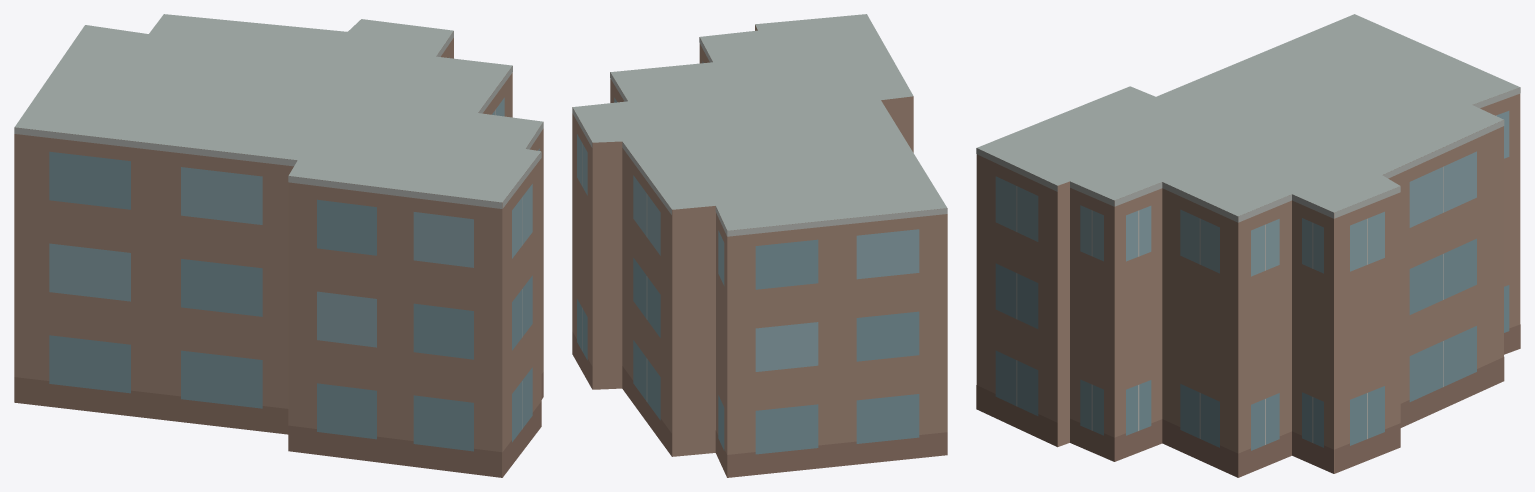
The model's file is survey-upis-32711663.glb.
The picture shows the model from 3 angles, left to right: view 1: azimuth 30°, elevation 25°; view 2: azimuth 150°, elevation 25°; view 3: azimuth 270°, elevation 25°; orthographic projection. The views are drawn at different scales.
Visible parts, largest first — view 1: survey-upis-32711663.tmp; view 2: survey-upis-32711663.tmp; view 3: survey-upis-32711663.tmp.
Boxes of the visible parts, x1,y1,x2,y2 form: survey-upis-32711663.tmp: [14, 14, 543, 477]; survey-upis-32711663.tmp: [572, 14, 947, 477]; survey-upis-32711663.tmp: [976, 14, 1520, 477].
Bounding box in the file's own units: 16.95 × 10.2 × 19.24.
